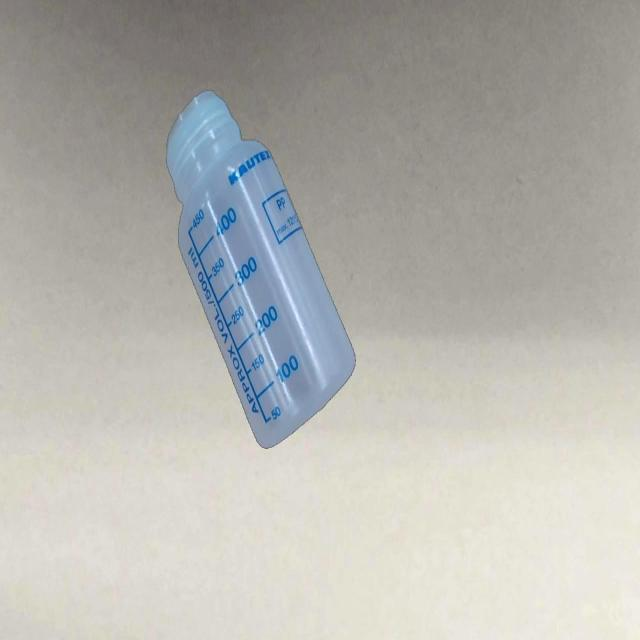bottle: (166, 88, 360, 454)
